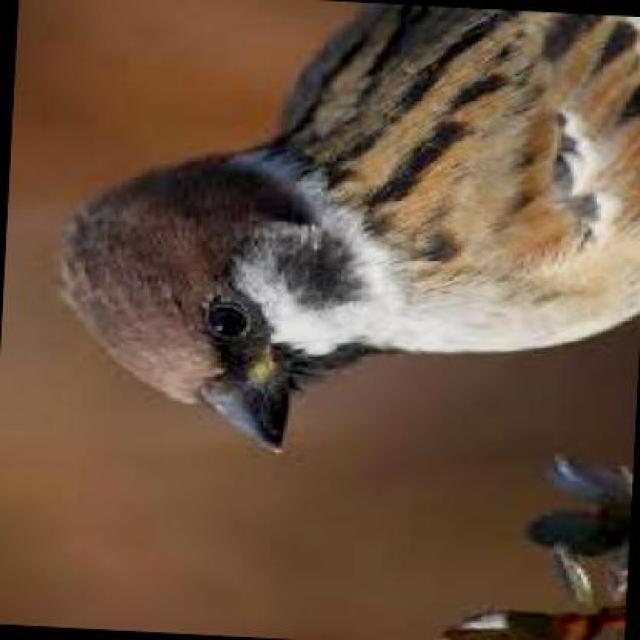Bird: (49, 3, 640, 429)
